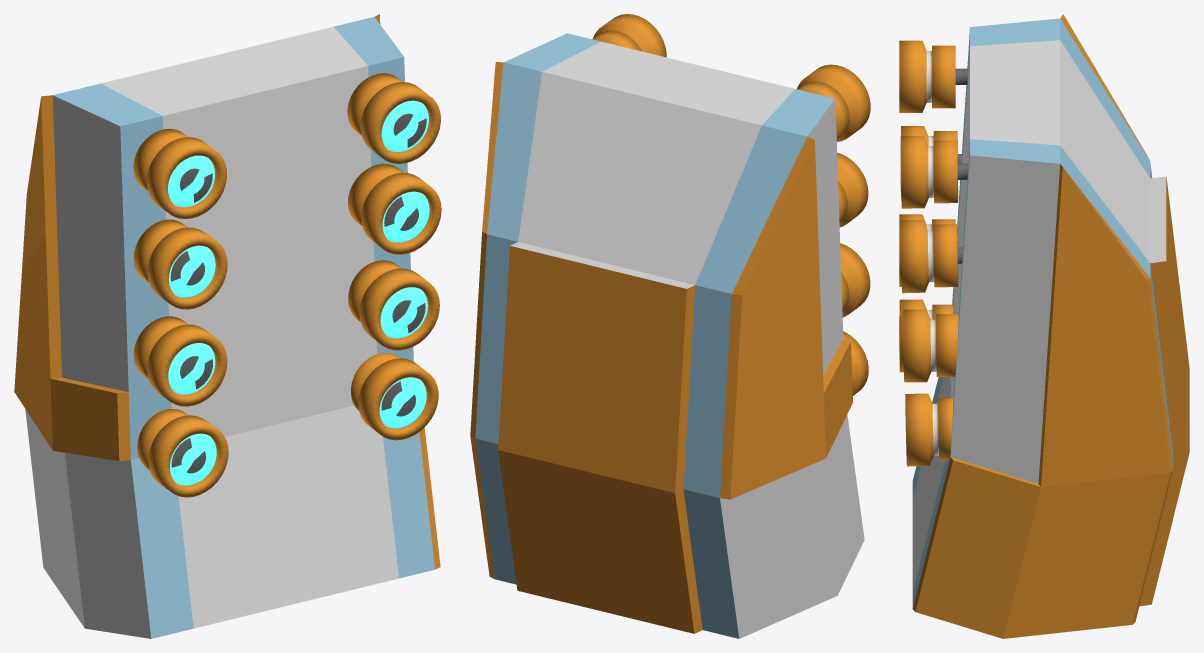
Rendered from eyes9.glb.
The picture shows the model from 3 angles, left to right: view 1: azimuth 30°, elevation 25°; view 2: azimuth 150°, elevation 25°; view 3: azimuth 270°, elevation 25°; orthographic projection. The views are drawn at different scales.
Visible parts, largest first — view 1: eyes9; view 2: eyes9; view 3: eyes9.
Part boxes in pixels (x1,y1,x2,y2): eyes9: (14, 14, 441, 638); eyes9: (470, 14, 870, 638); eyes9: (899, 14, 1189, 638).
Size of the model in its own units: 1.11 by 1.6 by 0.8902.
